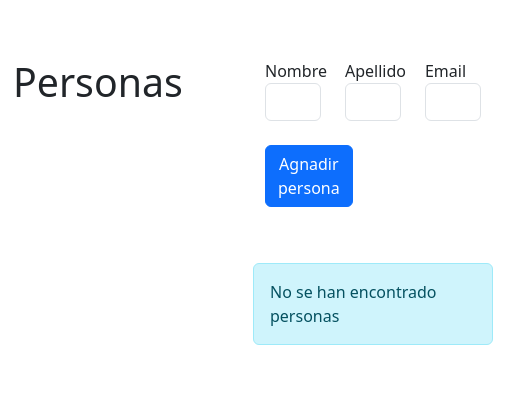
Test case: Add persona › Add-persona › Add persona KO 1
The width and height of the screenshot is (510, 411).
Step 1. Type "Paco" into the field with test id "name" → (293, 102), box [265, 83, 321, 121]
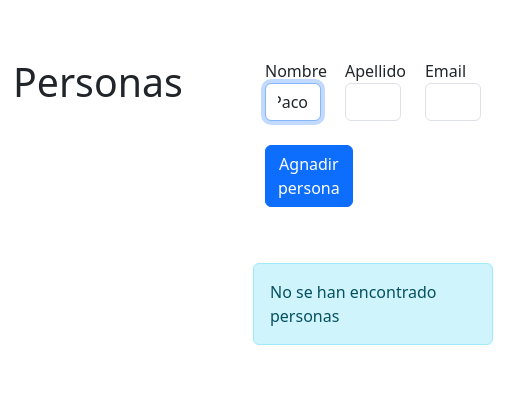
Step 2. Type "Land" into the field with test id "surname" → (373, 102), box [345, 83, 401, 121]
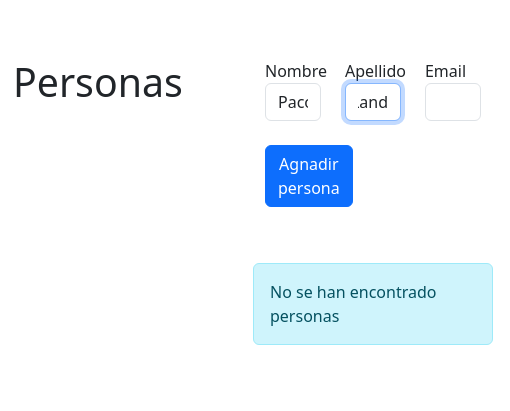
Step 3. Click the button with test id "add-button" → click(309, 176), box [265, 145, 353, 207]
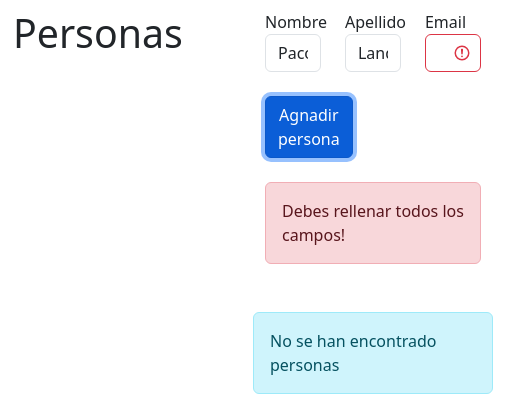
Expected: the message "Debes rellenar todos los campos!" is shown, [265, 182, 481, 264]
